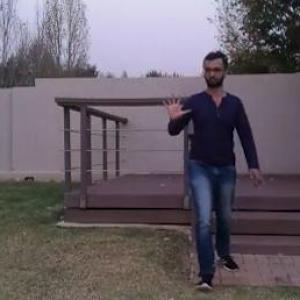follow_hand: (161, 87, 194, 123)
